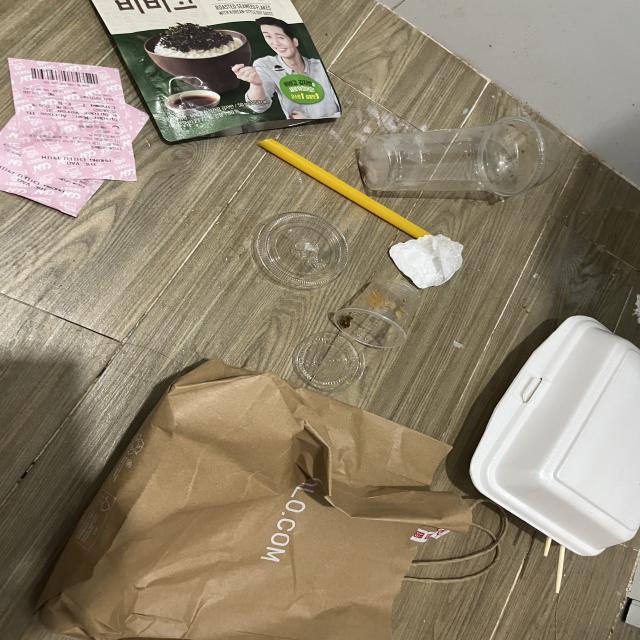bag: (36, 353, 506, 640)
drinking straw: (260, 138, 435, 240)
foam box: (468, 315, 640, 557)
lid: (251, 210, 348, 288), (292, 330, 366, 390)
napkin: (388, 234, 465, 288)
paper: (0, 58, 152, 218)
plastic glass: (364, 117, 562, 196)
plastic holder: (336, 280, 421, 346)
snack package: (91, 0, 342, 144)
